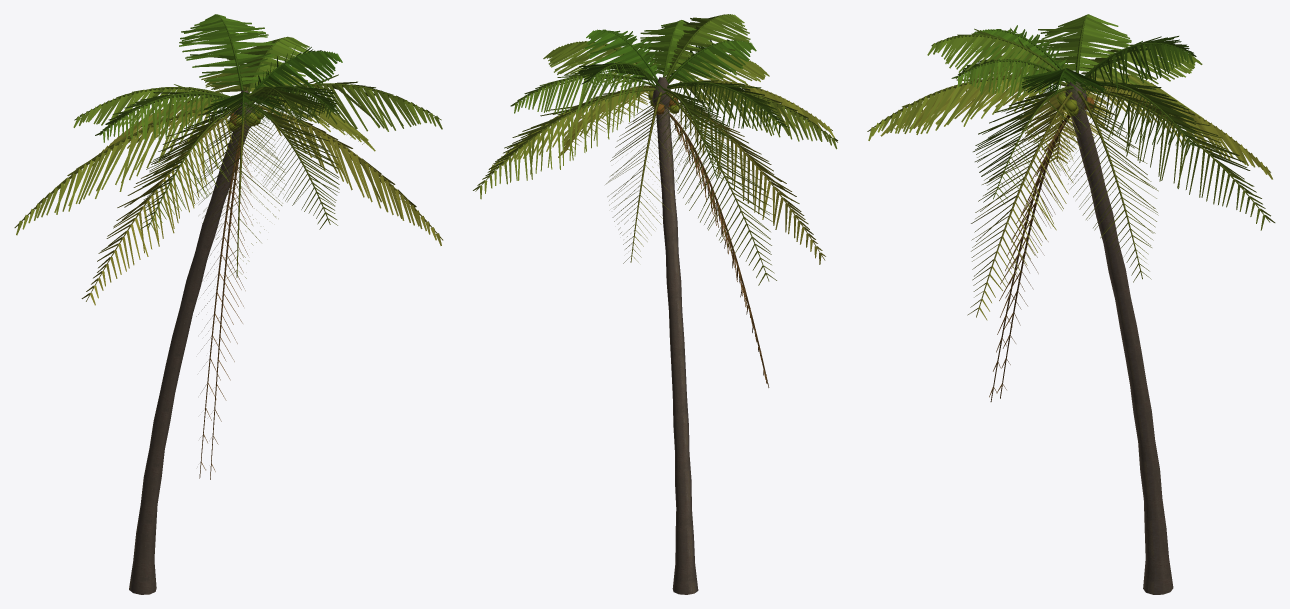
Rendered from palm_2.glb.
3 views of the same model, side by side, from view 1: azimuth 30°, elevation 25°; view 2: azimuth 150°, elevation 25°; view 3: azimuth 270°, elevation 25° (orthographic). The views are drawn at different scales.
Parts seen in each view (by area): view 1: palm_2; view 2: palm_2; view 3: palm_2.
Boxes of the visible parts, box(x1,y1,x2,y2) form: palm_2: box(14, 14, 443, 594); palm_2: box(473, 14, 837, 594); palm_2: box(867, 14, 1275, 594).
Size of the model in its own units: 7.72 by 11.96 by 7.52.
3 materials, 1 textured.
